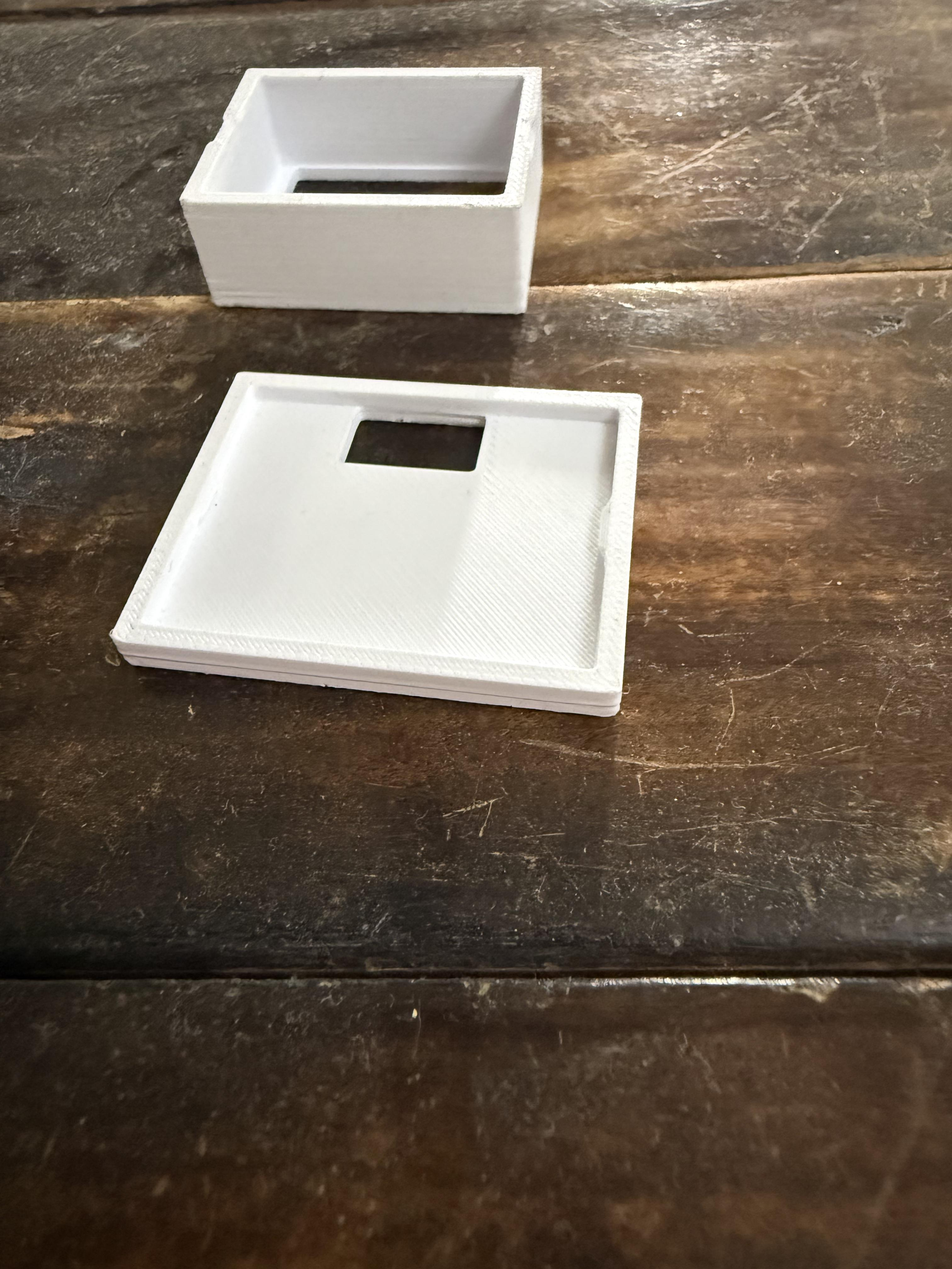enclosure: (99, 351, 668, 727), (179, 66, 543, 314)
